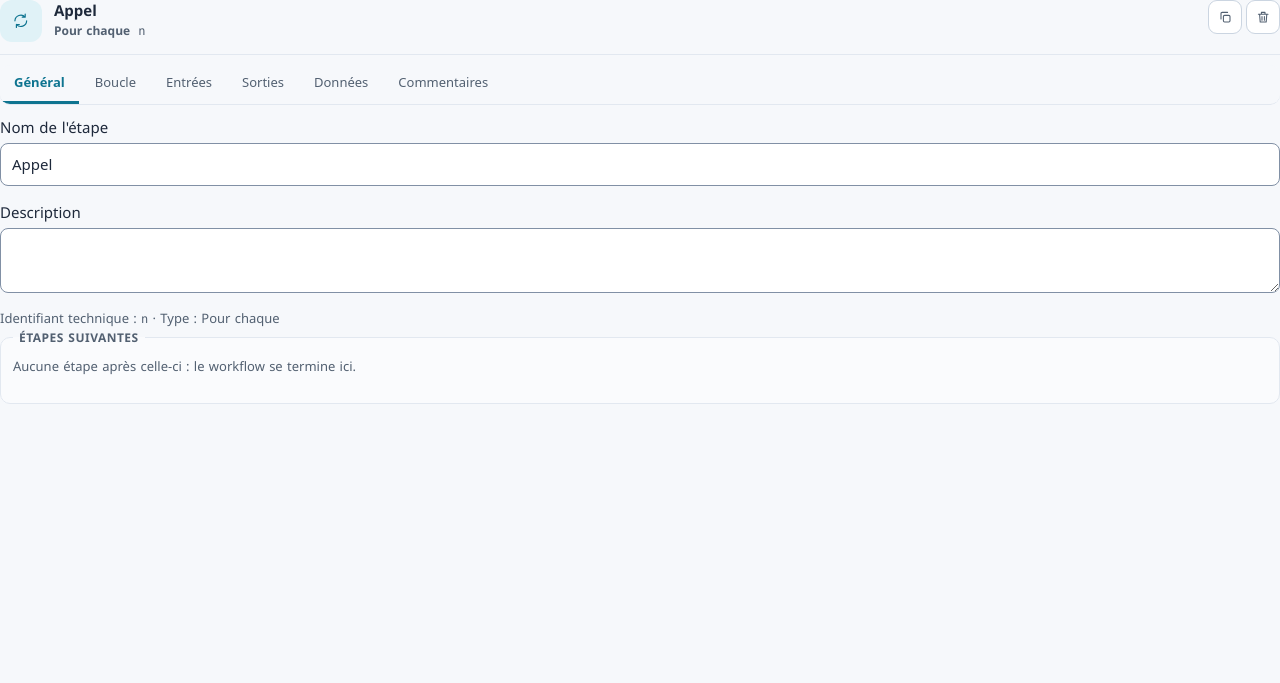
Test: version du workflow appelé — étape foreach › affiche la version ÉPINGLÉE du graphe, pas la dernière du catalogue
Click the tab "Boucle". click: (115, 84)
box: [81,65,150,104]
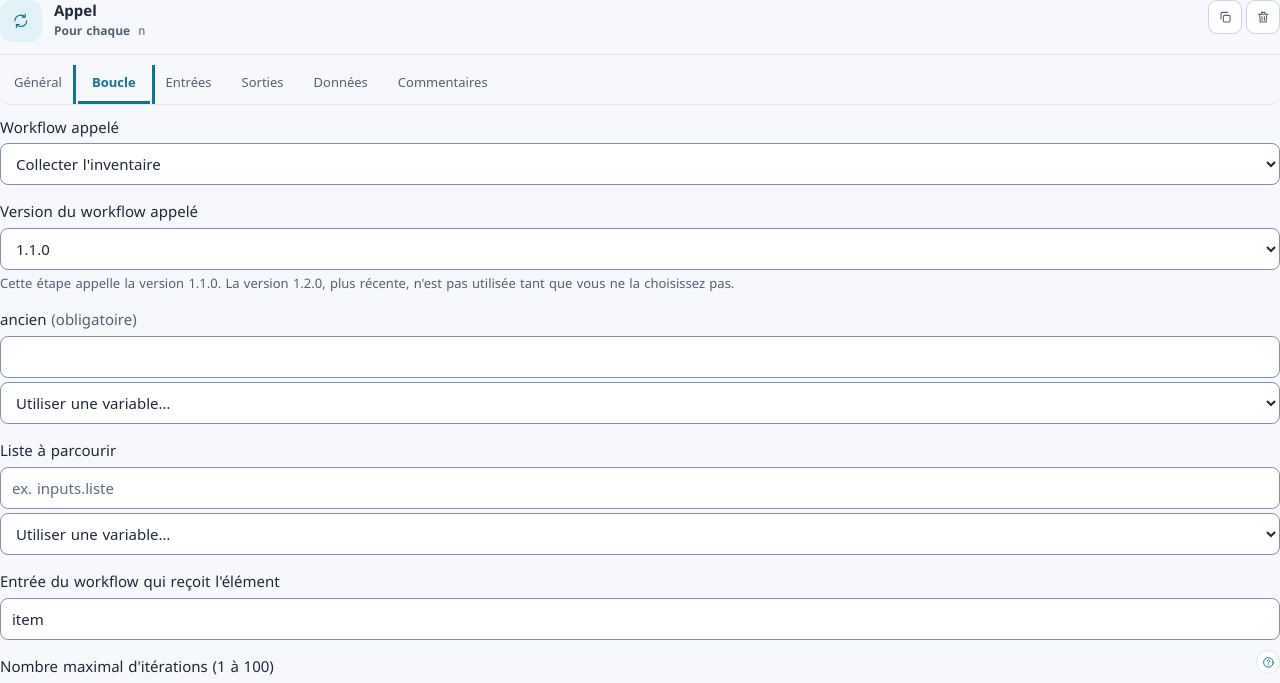
expect the field labelled "Workflow appelé" does not show "1.2.0": met
expect the dropdown labelled "Version du workflow appelé" shows "1.1.0": met, box [0,228,1279,270]
expect the text "appelle la version 1.1.0. La version 1.2.0, plus récente, n'est pas utilisée" is shown: met, box [0,274,734,292]
